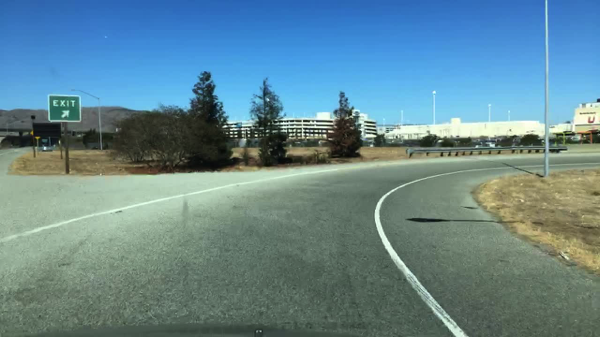car: (37, 145, 55, 152), (483, 140, 498, 146), (571, 134, 581, 142), (473, 140, 483, 147), (434, 138, 442, 142)
traffic sign: (48, 96, 81, 122), (34, 123, 63, 138), (34, 135, 41, 140), (41, 139, 48, 143), (30, 132, 37, 135)
